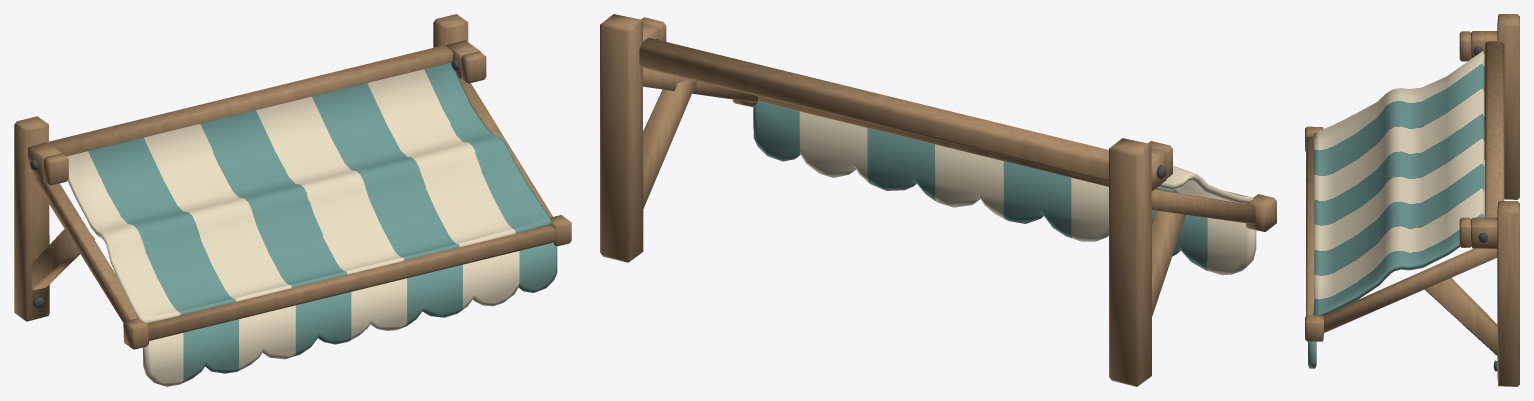
Rendered from shop_awning.fbx.
3 renders of one model, left to right at view 1: azimuth 30°, elevation 25°; view 2: azimuth 150°, elevation 25°; view 3: azimuth 270°, elevation 25°, orthographic. The views are drawn at different scales.
Parts seen in each view (by area): view 1: shop_awning; view 2: shop_awning; view 3: shop_awning.
Part boxes in pixels (box(x1,y1,x2,y2)): shop_awning: box(14, 14, 571, 386); shop_awning: box(600, 14, 1276, 386); shop_awning: box(1305, 14, 1519, 386).
Size of the model in its own units: 2.2 by 0.9085 by 1.
Materials: 1 (1 with a texture image).
